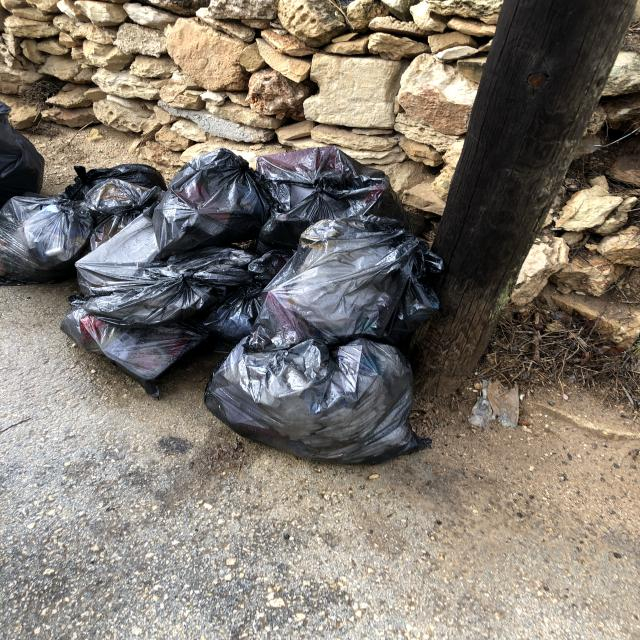Mixed Waste -Black Bag-: (206, 326, 435, 469), (255, 216, 447, 348), (73, 240, 277, 325), (64, 310, 215, 402), (160, 149, 278, 255), (75, 213, 166, 307), (1, 197, 91, 291), (1, 100, 48, 214), (64, 163, 168, 206)
